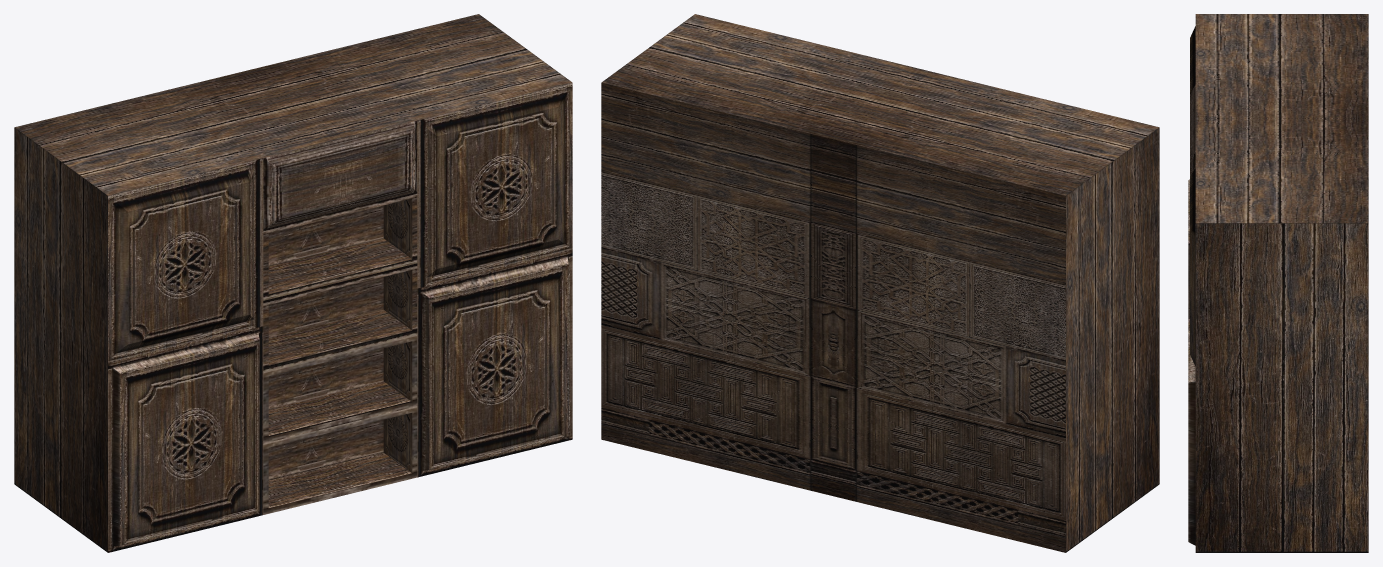
Rendered from big.fbx.
3 views of the same model, side by side, from view 1: azimuth 30°, elevation 25°; view 2: azimuth 150°, elevation 25°; view 3: azimuth 270°, elevation 25° (orthographic). The views are drawn at different scales.
Visible parts, largest first — view 1: Box039; view 2: Box039; view 3: Box039.
Part boxes in pixels (bbox=[...]): Box039: bbox=[14, 14, 572, 552]; Box039: bbox=[601, 14, 1159, 552]; Box039: bbox=[1188, 14, 1368, 552].
Bounding box in the file's own units: 174 × 128 × 63.52.
